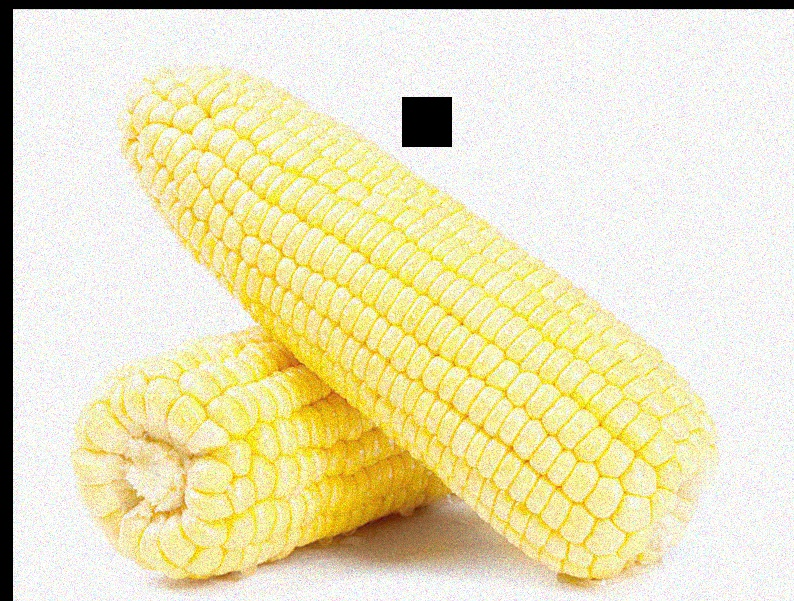corn: (122, 61, 699, 551), (70, 297, 564, 579)
